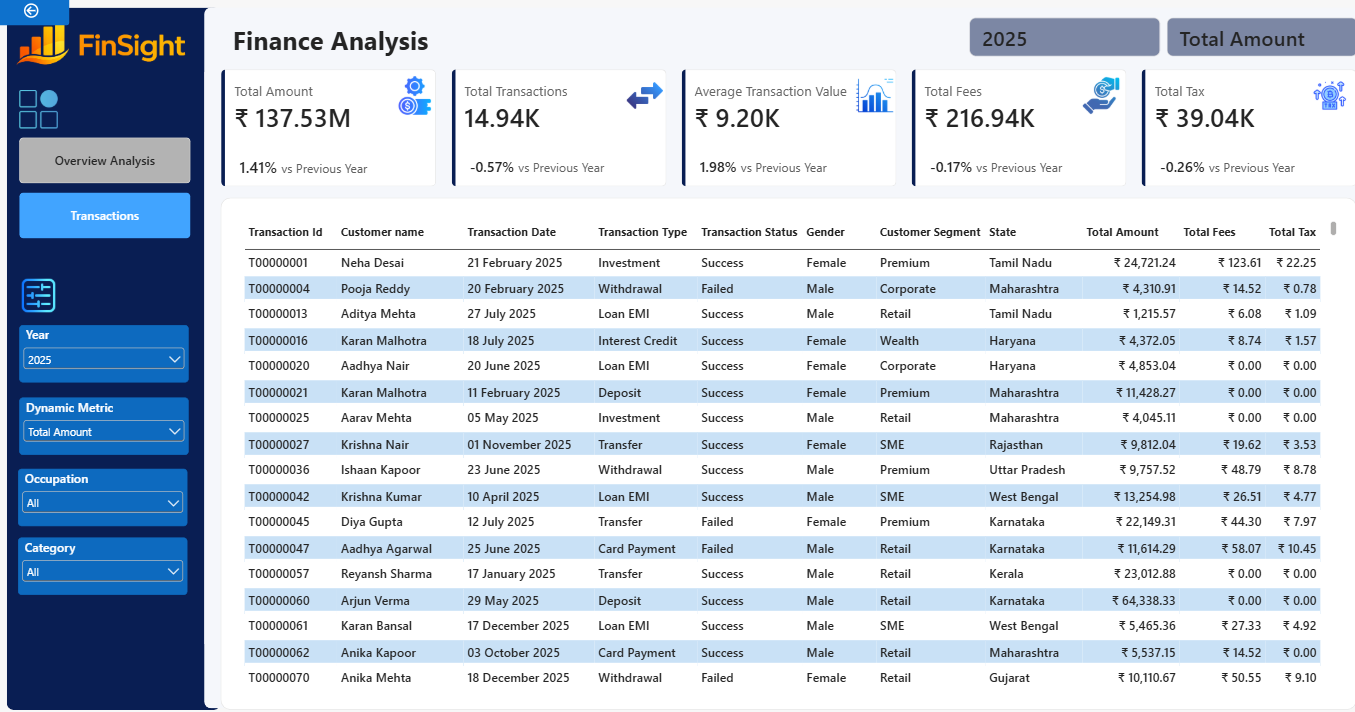

Layout of this report page (visuals, bound fields, positions):
{"tool":"powerbi","page":{"name":"Transactions","canvas":[1800,950],"ordinal":1},"visuals":[{"type":"shape","box":[18.3,16.7,279.6,919],"z":0},{"type":"shape","box":[276.7,16.7,1508.3,916.7],"z":1000},{"type":"image","box":[11.7,16.7,265,90],"z":2000},{"type":"cardVisual","fields":{"Data":["finance_transactions.title"]},"box":[298.3,16.7,398.3,80],"z":3000},{"type":"cardVisual","fields":{"Data":["finance_transactions.Total Amount","finance_transactions.Total Transactions","finance_transactions.Average Transaction Value","finance_transactions.Total Fees","finance_transactions.Total Tax"]},"box":[298.3,96.7,1488,155],"z":4000},{"type":"image","box":[526.7,106.7,50,50],"z":5000},{"type":"image","box":[826.7,106.7,50,50],"z":6000},{"type":"image","box":[1425,106.7,50,50],"z":7000},{"type":"image","box":[1128.3,106.7,50,50],"z":8000},{"type":"image","box":[1723.3,106.7,50,50],"z":9000},{"type":"shape","box":[297.6,264.9,1486.4,670.4],"z":10000},{"type":"cardVisual","fields":{"Data":["finance_transactions.Selected Year","finance_transactions.Selected Dynamic Measure"]},"box":[1276.7,30,508.3,51.7],"z":11000},{"type":"tableEx","fields":{"Values":["finance_transactions.transaction_id","customers.customer_name","finance_transactions.transaction_date","finance_transactions.transaction_type","finance_transactions.transaction_status","customers.gender","customers.customer_segment","customers.state","finance_transactions.Total Amount","finance_transactions.Total Fees","finance_transactions.Total Tax"]},"box":[312.3,281.3,1461.9,641],"z":12000},{"type":"actionButton","box":[0,0,100,40],"z":13000},{"type":"slicer","fields":{"Values":["Calendar Table.Year"]},"box":[35,431.7,221.7,75],"z":14000},{"type":"slicer","fields":{"Values":["Dynamic Metric.Dynamic Metric"]},"box":[35,526.7,221.7,75],"z":15000},{"type":"slicer","fields":{"Values":["customers.occupation"]},"box":[32.7,619.7,221.7,75],"z":16000},{"type":"slicer","fields":{"Values":["finance_transactions.merchant_category"]},"box":[32.7,709.7,221.7,75],"z":17000},{"type":"pageNavigator","box":[34.3,186.4,224,132.4],"z":18000},{"type":"image","box":[34.3,124.3,50,50],"z":18001},{"type":"image","box":[34.3,367.9,50,50],"z":18002}]}

Visuals, with their boxes on the page's 1800x950 design canvas (x1, y1, x2, y2). These are canvas units, not pixel positions in the 1355x712 screenshot, which may show the page scaled, cropped or inside an application window:
shape: [18,17,298,936]
shape: [277,17,1785,933]
image: [12,17,277,107]
cardVisual - finance_transactions.title: [298,17,697,97]
cardVisual - finance_transactions.Total Amount x finance_transactions.Total Transactions: [298,97,1786,252]
image: [527,107,577,157]
image: [827,107,877,157]
image: [1425,107,1475,157]
image: [1128,107,1178,157]
image: [1723,107,1773,157]
shape: [298,265,1784,935]
cardVisual - finance_transactions.Selected Year x finance_transactions.Selected Dynamic Measure: [1277,30,1785,82]
tableEx - finance_transactions.transaction_id x customers.customer_name: [312,281,1774,922]
actionButton: [0,0,100,40]
slicer - Calendar Table.Year: [35,432,257,507]
slicer - Dynamic Metric.Dynamic Metric: [35,527,257,602]
slicer - customers.occupation: [33,620,254,695]
slicer - finance_transactions.merchant_category: [33,710,254,785]
pageNavigator: [34,186,258,319]
image: [34,124,84,174]
image: [34,368,84,418]
